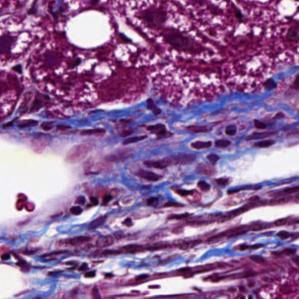inflammation: (1, 118, 106, 141), (192, 118, 240, 168), (140, 90, 178, 148), (69, 186, 126, 218), (71, 252, 115, 287), (250, 112, 279, 152), (136, 153, 164, 191), (8, 62, 28, 79)
